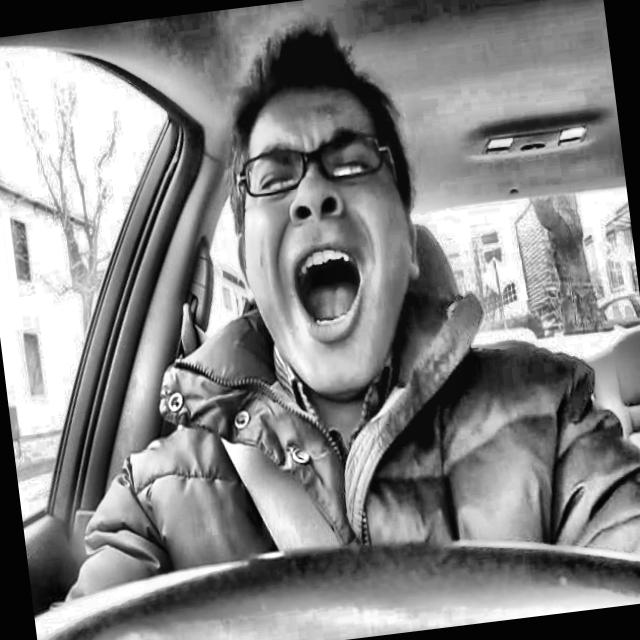closed_eyes: (318, 143, 388, 186), (239, 157, 303, 198)
open_mouth: (268, 232, 380, 355)
